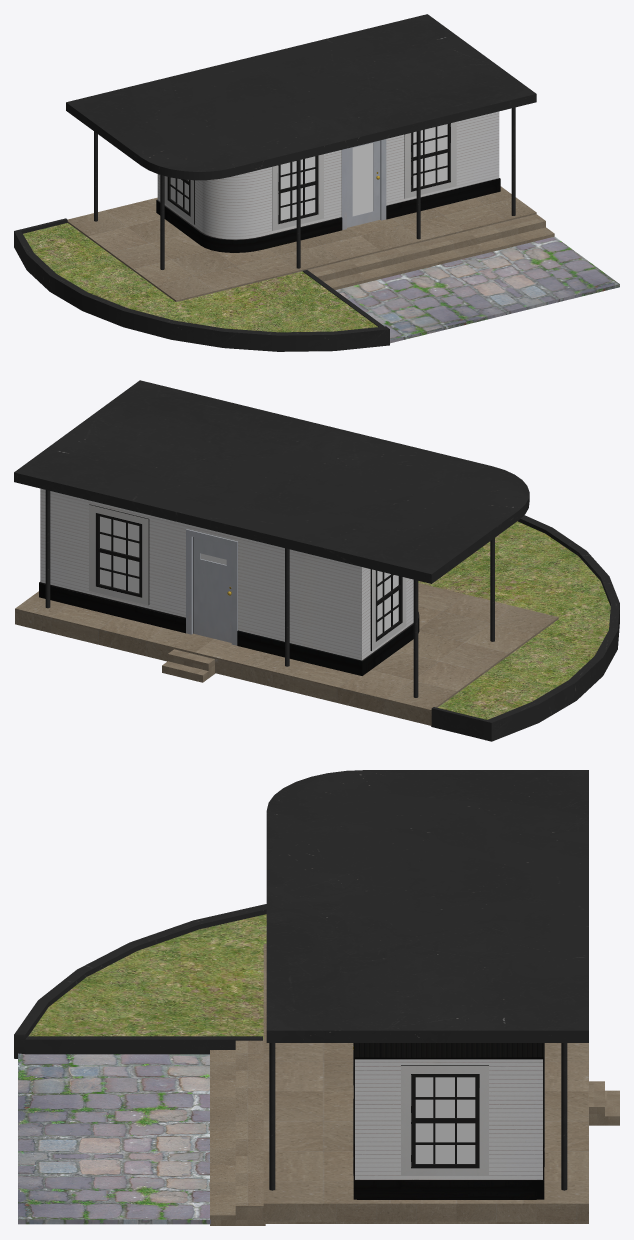
Rendered from small_house_fbx.fbx.
3 views of the same model, one above another, from view 1: azimuth 30°, elevation 25°; view 2: azimuth 150°, elevation 25°; view 3: azimuth 270°, elevation 25° (orthographic). The views are drawn at different scales.
Visible parts, largest first — view 1: roof and pillars, floor, house base, grass.001, windows & stairs, grass, door front and back; view 2: roof and pillars, house base, floor, grass.001, windows & stairs, grass, door front and back; view 3: roof and pillars, floor, house base, grass.001, windows & stairs, grass.
Boxes of the visible parts, bbox=[...] form: roof and pillars: bbox=[66, 14, 536, 269]; floor: bbox=[67, 186, 619, 343]; house base: bbox=[156, 111, 500, 252]; grass.001: bbox=[23, 223, 377, 332]; windows & stairs: bbox=[164, 122, 554, 289]; grass: bbox=[14, 218, 389, 351]; door front and back: bbox=[341, 139, 386, 229]; roof and pillars: bbox=[14, 380, 529, 697]; house base: bbox=[39, 488, 419, 675]; floor: bbox=[15, 583, 558, 725]; grass.001: bbox=[418, 521, 610, 719]; windows & stairs: bbox=[89, 504, 406, 682]; grass: bbox=[431, 515, 619, 741]; door front and back: bbox=[186, 529, 237, 645]; roof and pillars: bbox=[266, 770, 588, 1190]; floor: bbox=[18, 943, 588, 1224]; house base: bbox=[353, 1043, 544, 1199]; grass.001: bbox=[28, 914, 266, 1039]; windows & stairs: bbox=[210, 1039, 619, 1225]; grass: bbox=[14, 904, 266, 1058].
Size of what is drawn, in the model's own units: 38483 by 11282 by 31620.
